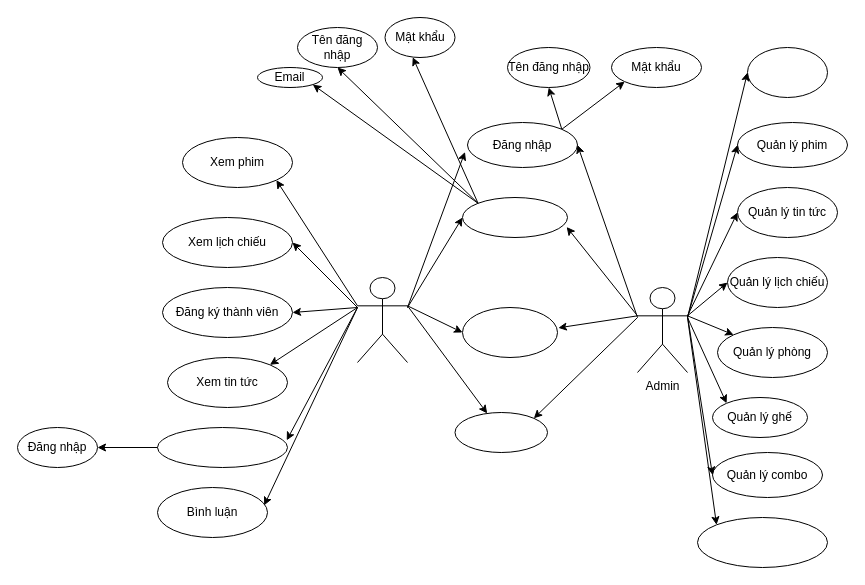
This 865x585 diagram has some shape labels left out. The centre of each missing label's shape, as x and y in pixels:
"Quản lý user" belongs at [787,72].
"Quản lý vé" belongs at [762,542].
"Tìm kiếm phim" belongs at [510,332].
"User" belongs at [382,319].
"Đăng ký" belongs at [515,217].
"Đăng xuất" belongs at [501,432].
"Đặt vé" belongs at [222,447].
